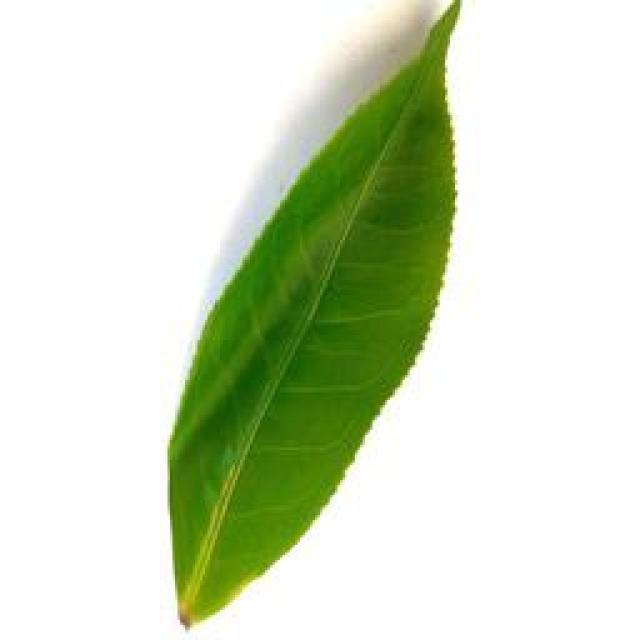Healthy: (167, 0, 482, 633)
